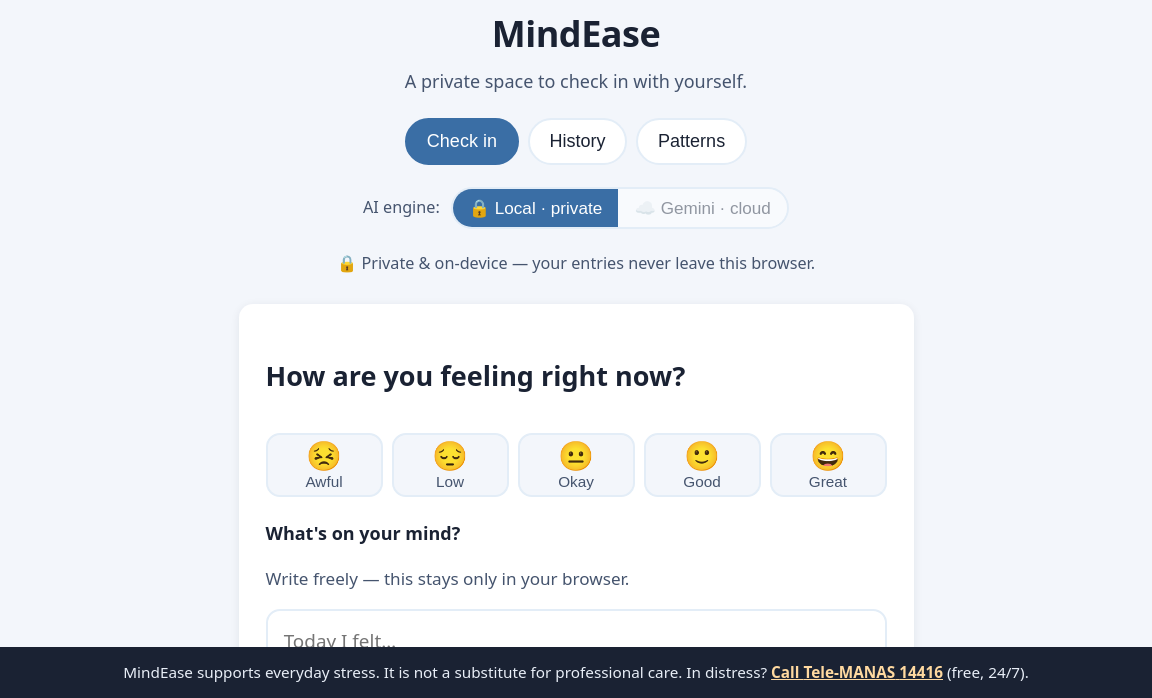
Test: App — safety-first check-in flow › continues the conversation on a follow-up, re-running triage and stacking the thread
Click the button "😐 Okay": (576, 465) [518,433,634,497]
(page scrolled)
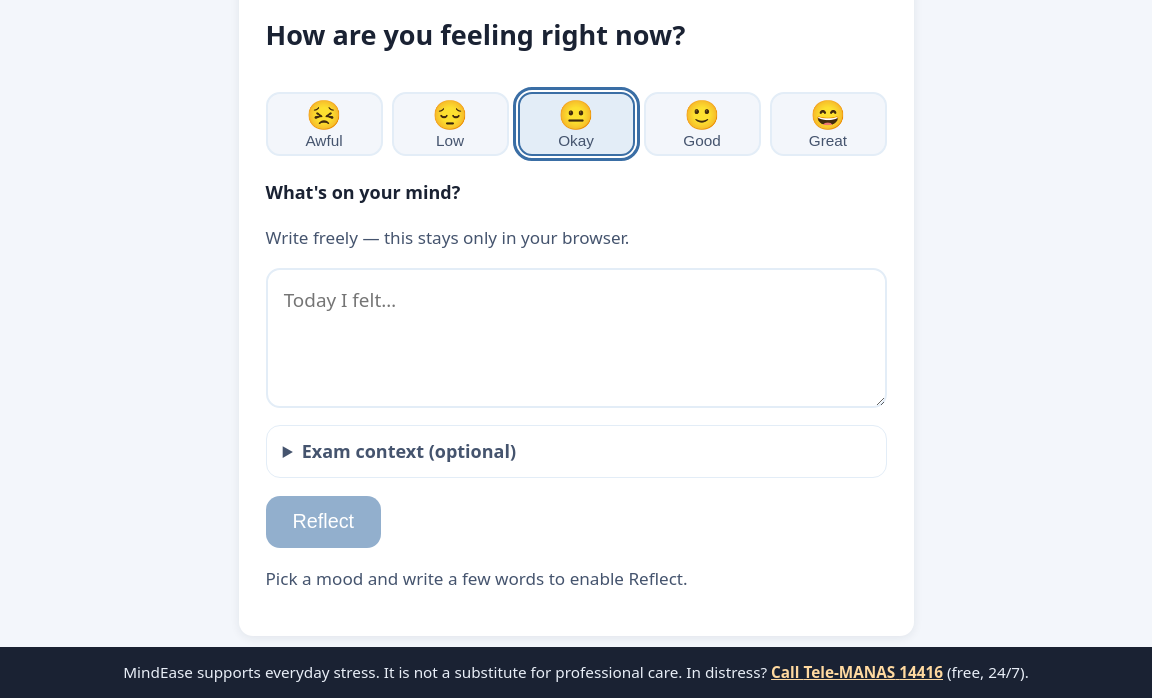
In the text box labelled "What's on your mind?": (576, 338) [266,268,886,408], type "exam stress"
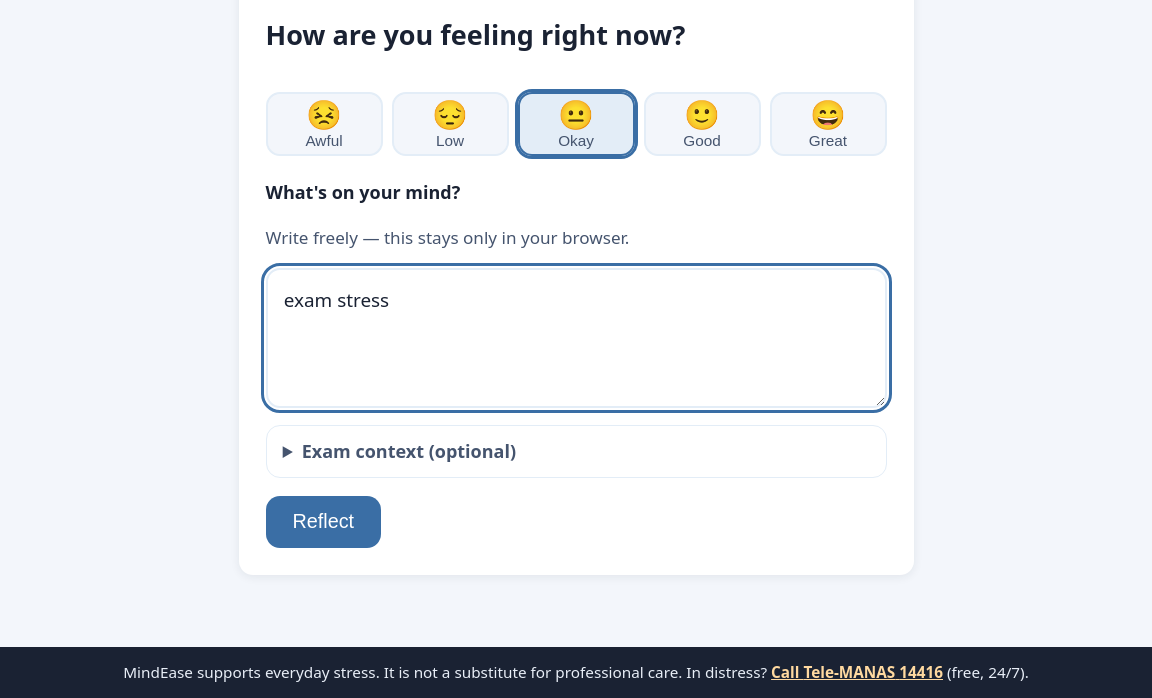
Click the button "Reflect": (323, 522) [266,496,381,548]
(page scrolled)
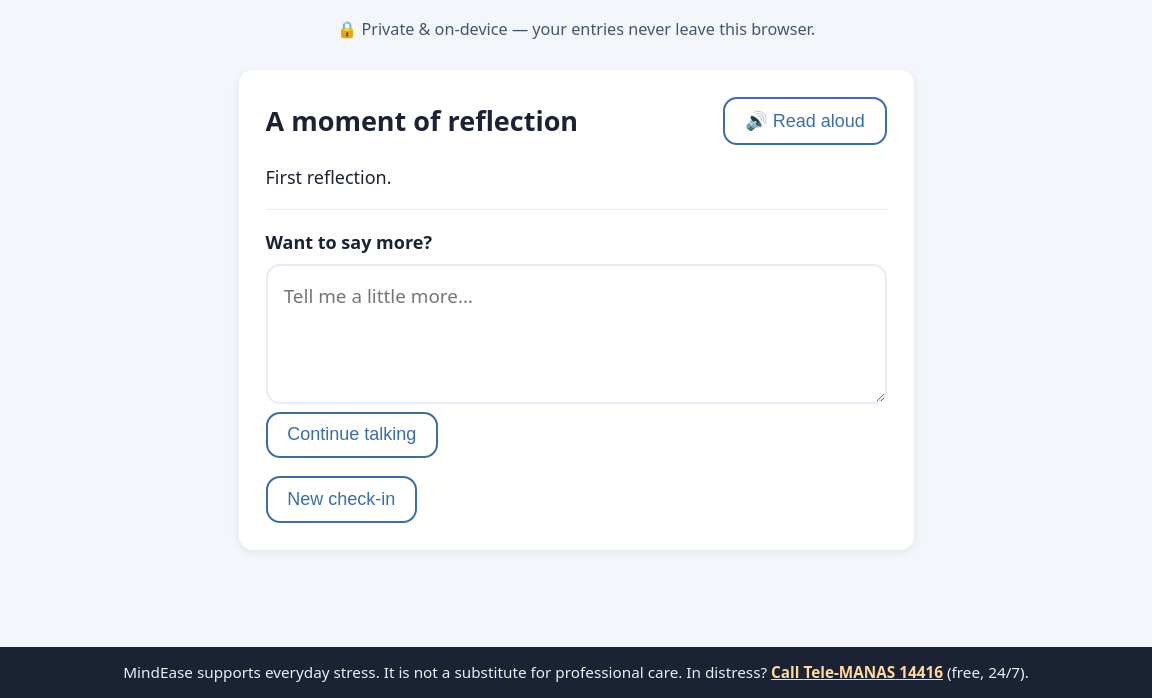
Expected: the text "First reflection." is shown, [266,165,392,189]
In the text box labelled "Want to say more?": (576, 334) [266,264,886,404], type "tell me more"
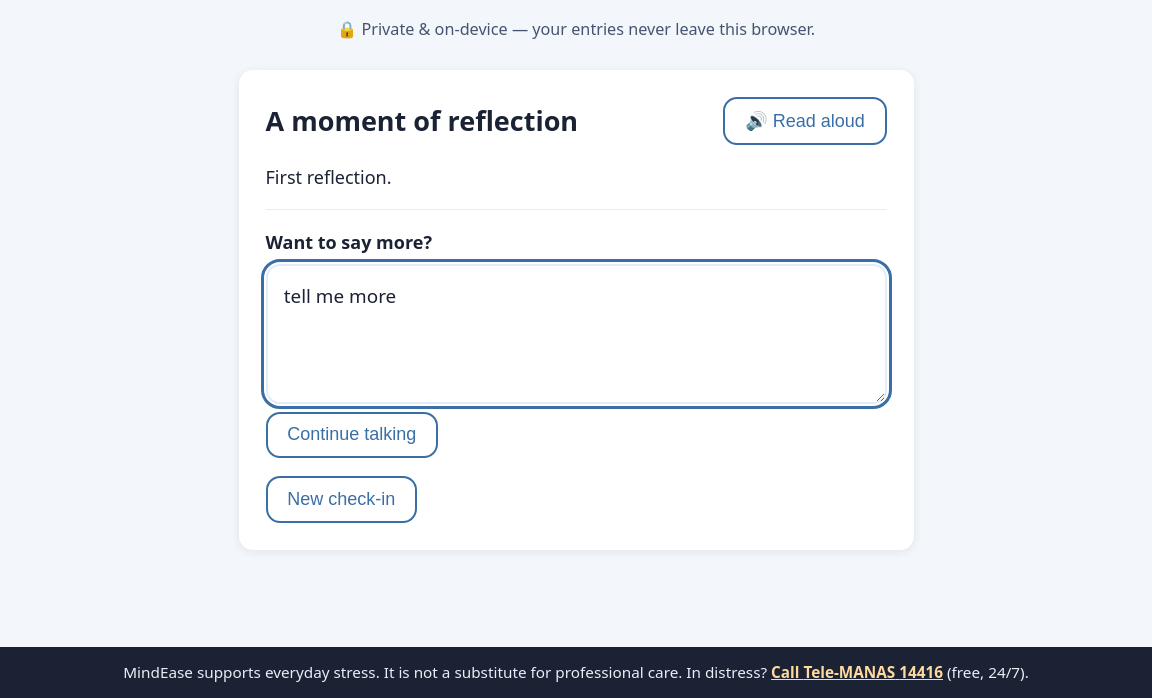
Click the button "Continue talking": (352, 435) [266,412,438,458]
(page scrolled)
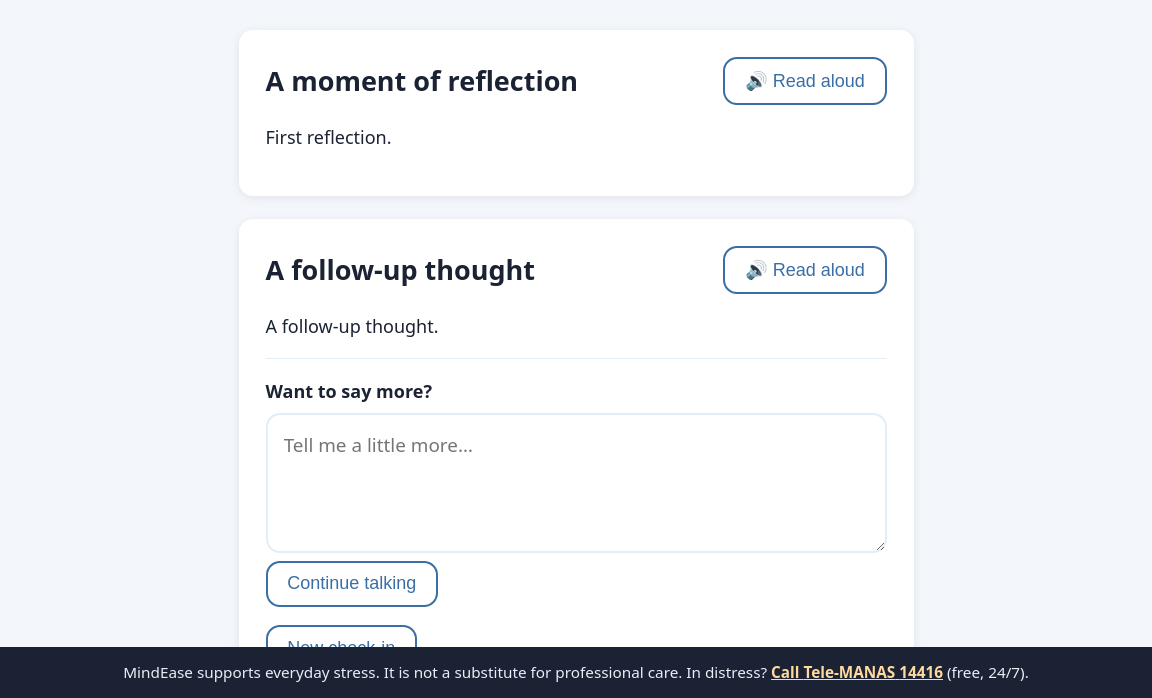
Expected: the text "First reflection." is shown, [266,125,392,149]
Expected: the text "A follow-up thought." is shown, [266,314,439,338]
